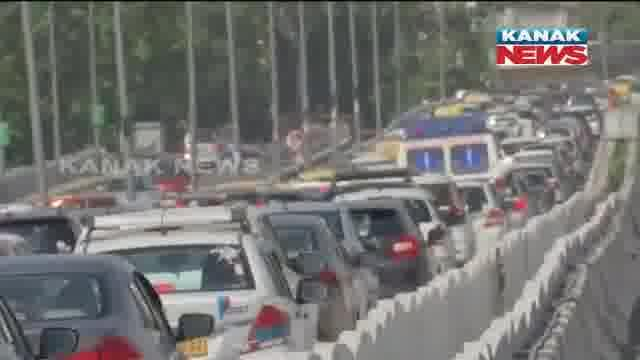AMBULANCE: (398, 109, 503, 174)
